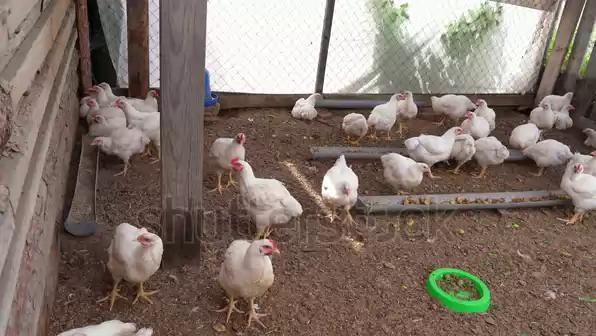Pollos: (231, 158, 302, 228), (220, 240, 283, 297), (109, 223, 161, 283), (408, 124, 462, 165), (562, 161, 595, 223), (320, 157, 357, 208), (379, 154, 430, 191), (516, 139, 573, 171), (469, 136, 510, 177), (92, 128, 148, 157), (114, 96, 159, 129), (372, 91, 403, 134), (337, 111, 370, 145), (213, 129, 246, 161), (426, 93, 477, 113), (293, 95, 328, 120), (462, 111, 486, 136), (528, 102, 553, 125)
